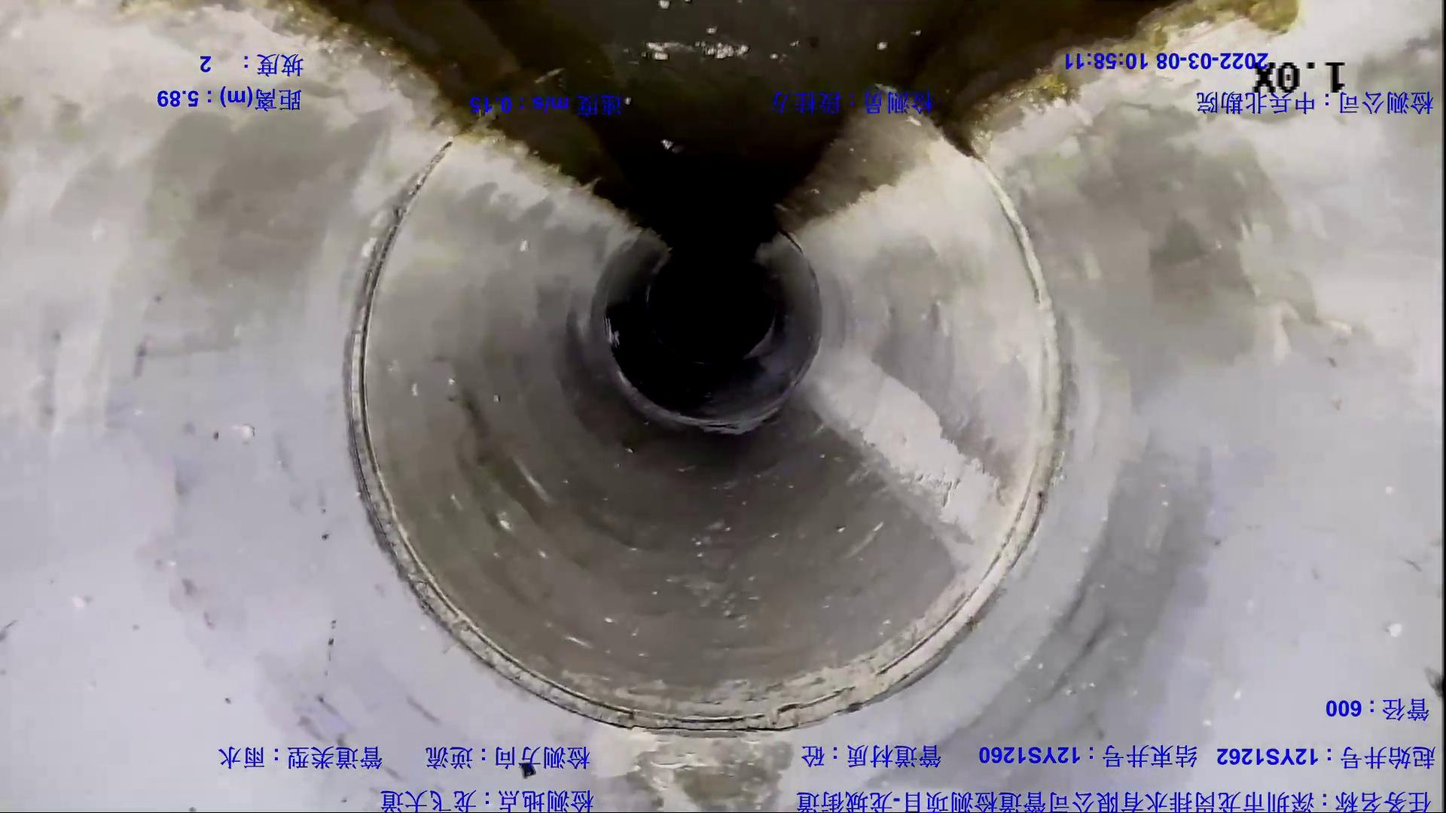CJ: (474, 1, 966, 246)
CKTJ: (346, 141, 1067, 735)
